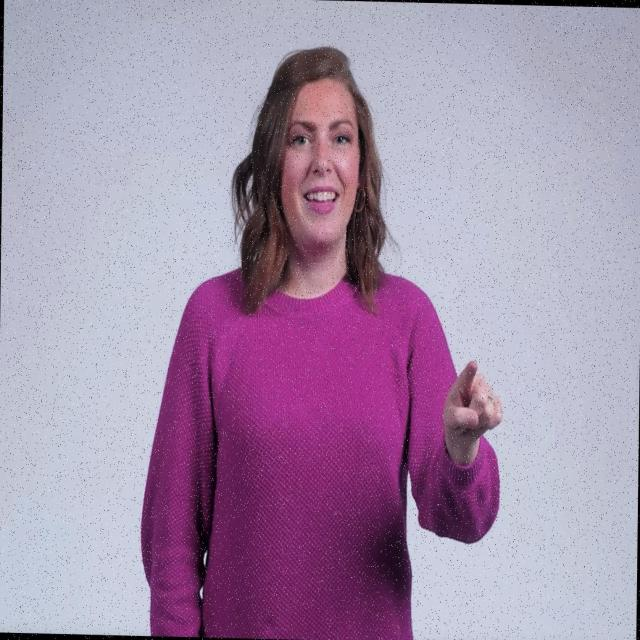Z: (444, 351, 504, 443)
